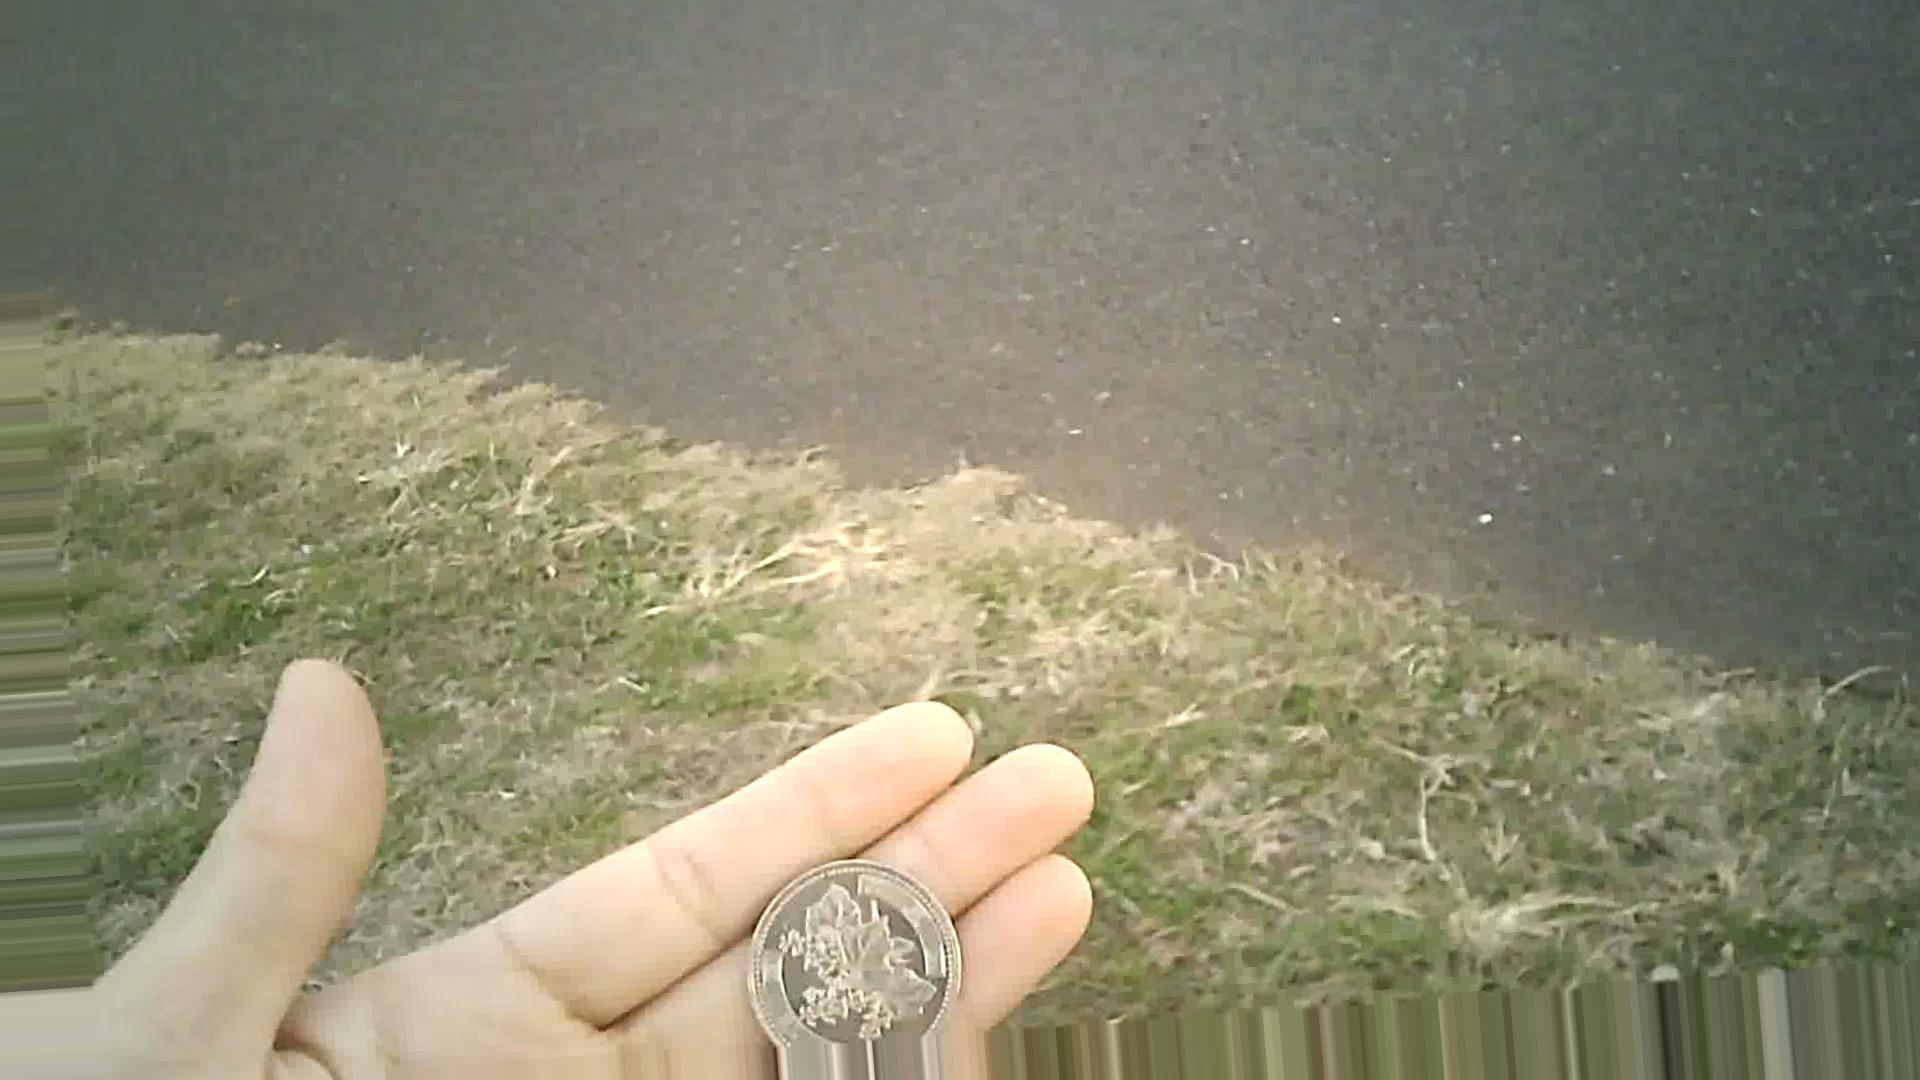500 Yen: (738, 845, 971, 1052)
